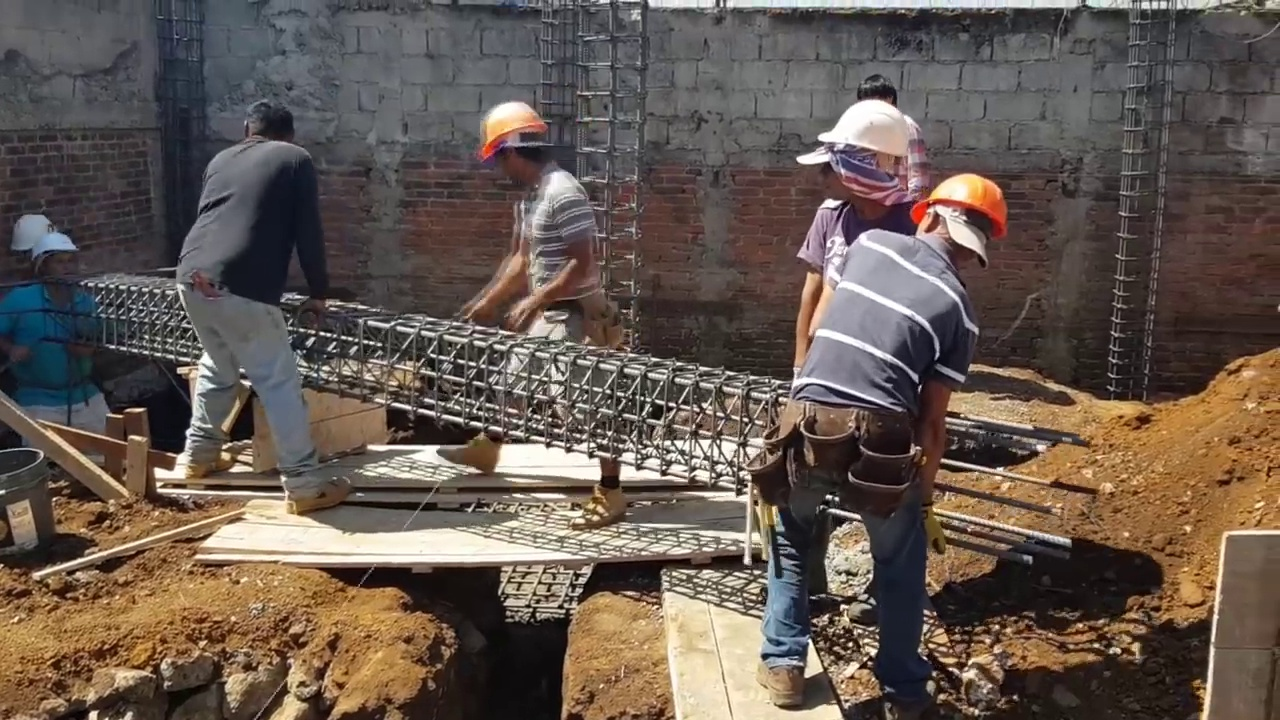helmet: (799, 109, 931, 172), (918, 173, 1008, 248), (474, 102, 545, 153), (32, 231, 82, 268), (10, 213, 49, 254)
helmet-off: (235, 98, 288, 145), (854, 73, 893, 102)
helmet-on: (803, 106, 934, 219), (908, 172, 1011, 274), (472, 97, 555, 194), (33, 231, 82, 307)
person: (754, 164, 1011, 720), (167, 100, 340, 513), (450, 105, 608, 503), (787, 100, 936, 378), (1, 223, 99, 452)
